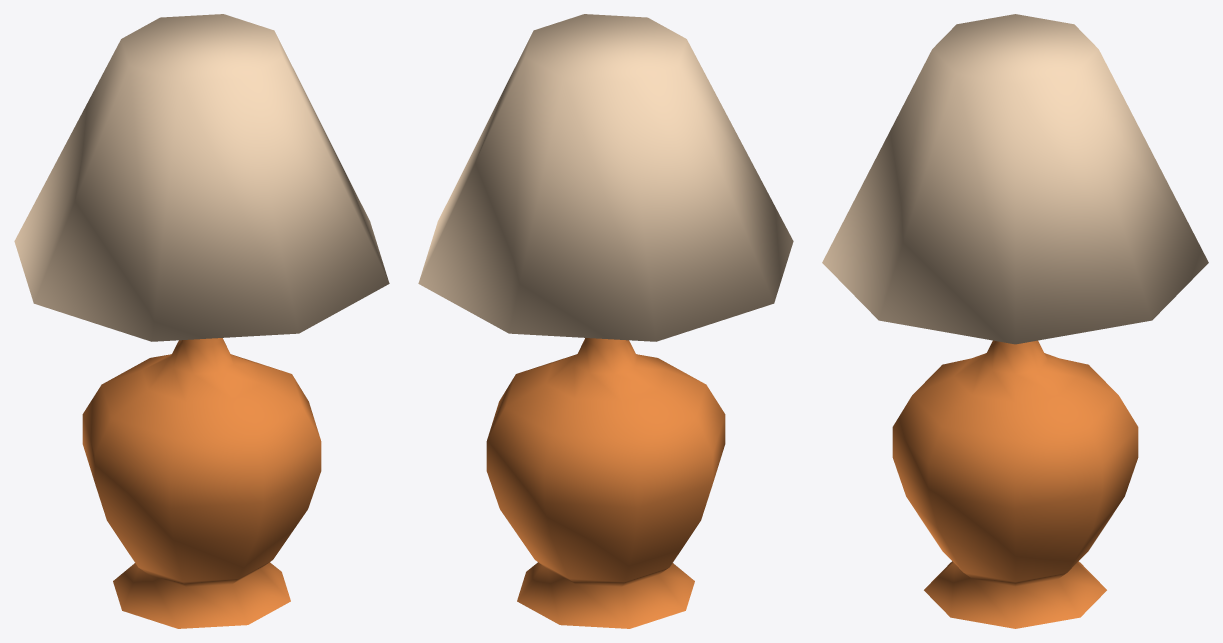
File: house_lamp.glb
The picture shows the model from 3 angles, left to right: view 1: azimuth 30°, elevation 25°; view 2: azimuth 150°, elevation 25°; view 3: azimuth 270°, elevation 25°; orthographic projection.
Visible parts, largest first — view 1: lamp -col; view 2: lamp -col; view 3: lamp -col.
Boxes of the visible parts, <box> form: lamp -col: <box>14,14,389,628</box>; lamp -col: <box>418,14,793,628</box>; lamp -col: <box>822,14,1208,628</box>.
Bounding box in the file's own units: 0.9164 × 1.41 × 0.9164.
